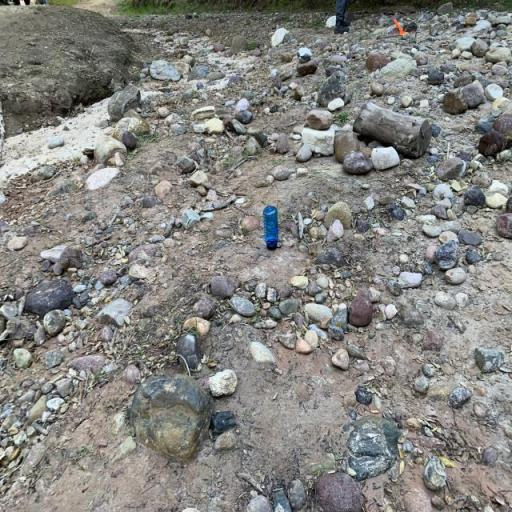bottle: (264, 205, 282, 250)
